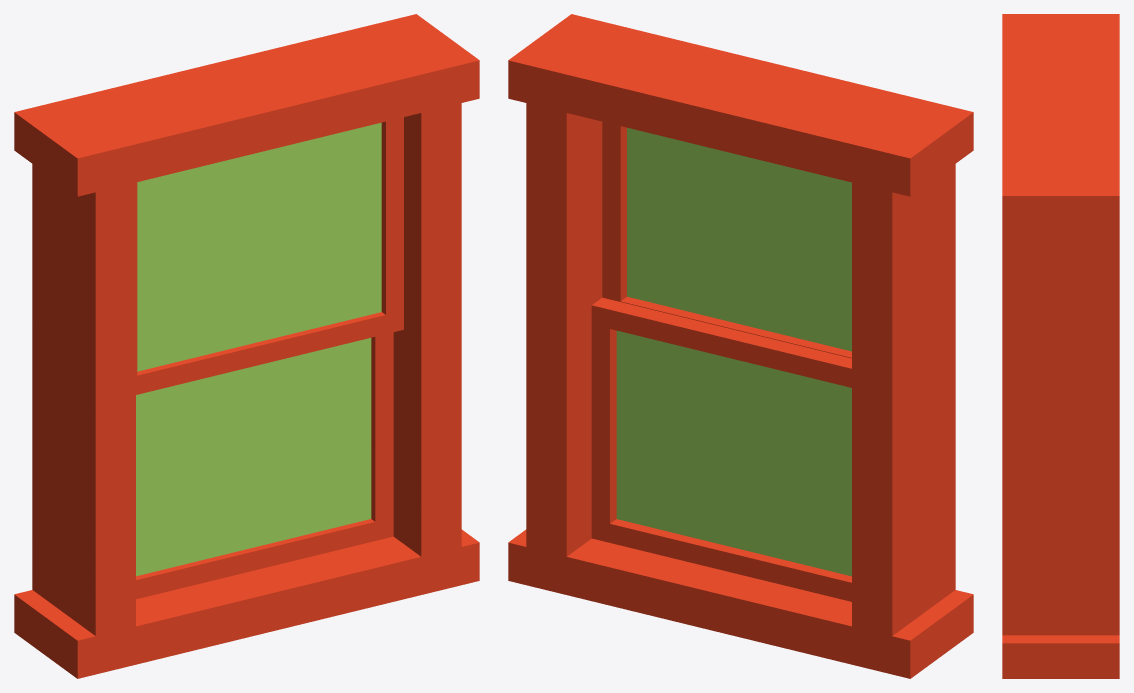
Rendered from SM_Window_Sliding_C_Survival.fbx.
3 renders of one model, left to right at view 1: azimuth 30°, elevation 25°; view 2: azimuth 150°, elevation 25°; view 3: azimuth 270°, elevation 25°, orthographic. The views are drawn at different scales.
Visible parts, largest first — view 1: window-sliding-c-frame-survival, window-sliding-c-window-survival; view 2: window-sliding-c-frame-survival, window-sliding-c-window-survival; view 3: window-sliding-c-frame-survival.
Part boxes in pixels (<box>): window-sliding-c-frame-survival: <box>14,14,479,678</box>; window-sliding-c-window-survival: <box>136,332,393,599</box>; window-sliding-c-frame-survival: <box>508,14,973,678</box>; window-sliding-c-window-survival: <box>591,297,851,601</box>; window-sliding-c-frame-survival: <box>1002,14,1119,678</box>.
Size of the model in its own units: 1.1 by 1.36 by 0.3.
